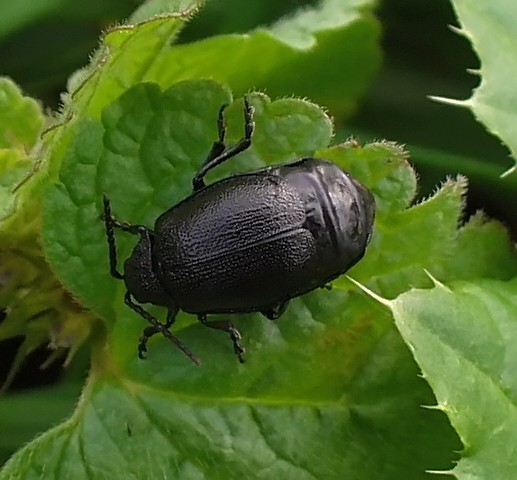Galeruca_tanaceti: (91, 91, 377, 368)
